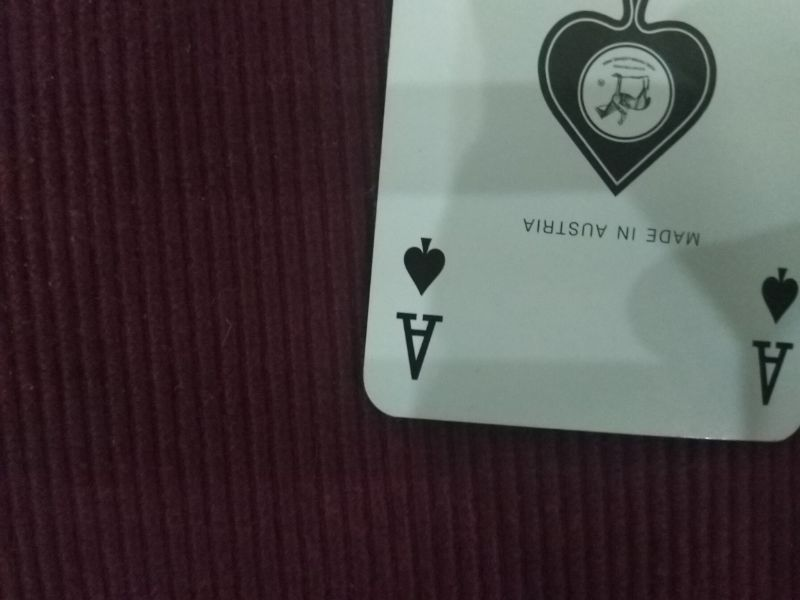As: (380, 234, 454, 390), (749, 258, 799, 413)
